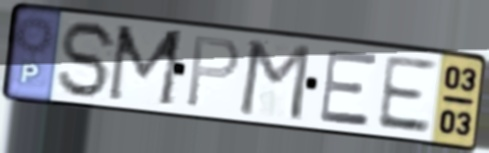E: (373, 52, 438, 136), (317, 48, 380, 129)
M: (103, 22, 189, 111), (235, 38, 314, 124)
P: (183, 33, 243, 110)
S: (56, 19, 122, 101)
